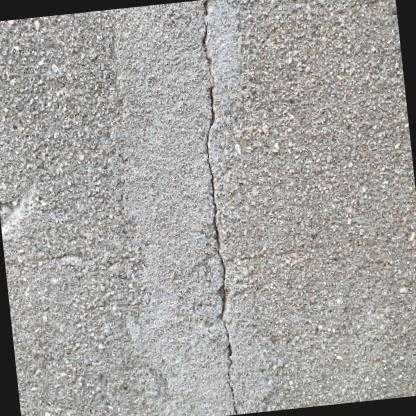crack: (201, 0, 238, 414)
